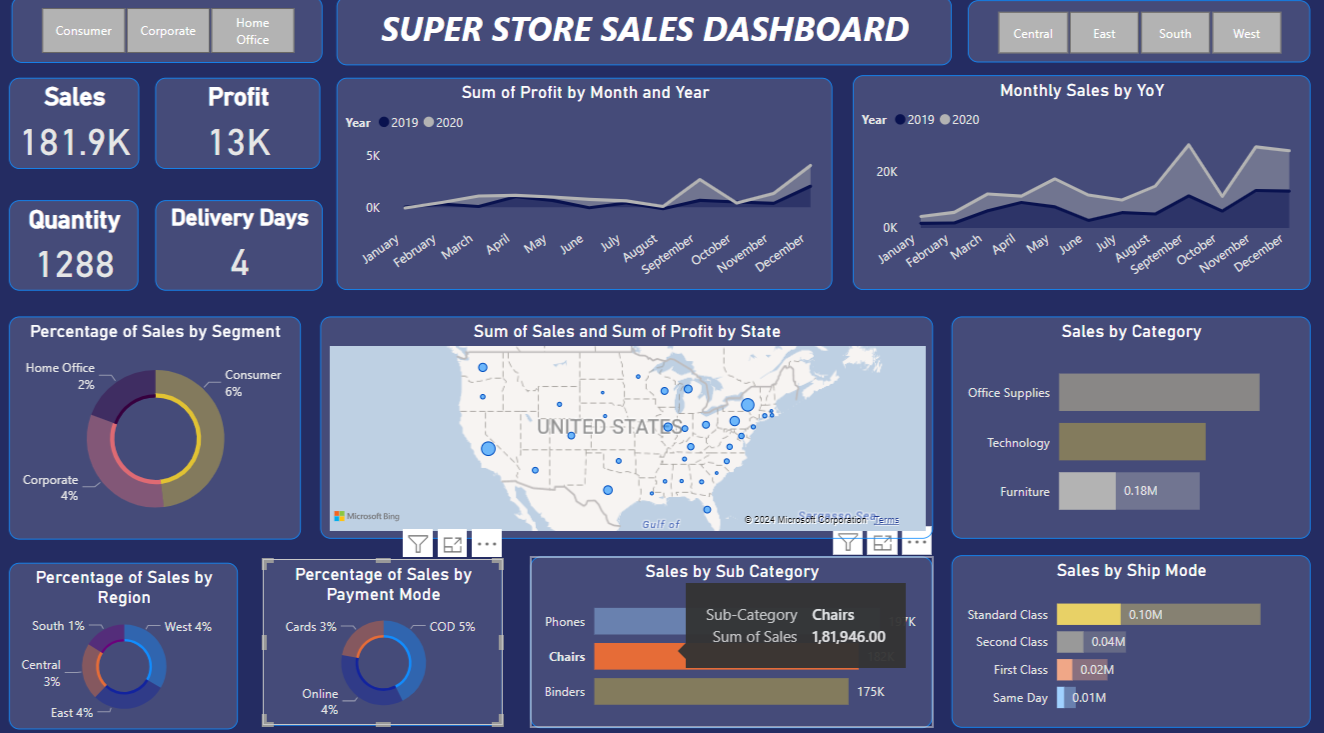

What the dashboard file says about the page in this screenshot:
{"tool":"powerbi","page":{"name":"Page 1","canvas":[1280,720],"ordinal":0},"visuals":[{"type":"clusteredBarChart","title":"Sales by Category","fields":{"Category":["SuperStore_Sales_Dataset.Category"],"Y":["Sum(SuperStore_Sales_Dataset.Sales)"]},"box":[920.2,311.2,346.1,214.7],"z":0},{"type":"clusteredBarChart","title":"Sales by Sub Category","fields":{"Category":["SuperStore_Sales_Dataset.Sub-Category"],"Y":["Sum(SuperStore_Sales_Dataset.Sales)"]},"box":[513.8,542.7,388.3,165.2],"z":1000},{"type":"clusteredBarChart","title":"Sales by Ship Mode","fields":{"Category":["SuperStore_Sales_Dataset.Ship Mode"],"Y":["Sum(SuperStore_Sales_Dataset.Sales)"]},"box":[920,541.2,346.2,166.2],"z":2000},{"type":"stackedAreaChart","title":"Monthly Sales by YoY","fields":{"Y":["Sum(SuperStore_Sales_Dataset.Sales)"],"Category":["SuperStore_Sales_Dataset.Order Date.Variation.Date Hierarchy.Month","SuperStore_Sales_Dataset.Order Date.Variation.Date Hierarchy.Day"],"Series":["SuperStore_Sales_Dataset.Order Date.Variation.Date Hierarchy.Year"]},"box":[825,78.8,441.2,207.5],"z":3000},{"type":"stackedAreaChart","fields":{"Category":["SuperStore_Sales_Dataset.Order Date.Variation.Date Hierarchy.Month","SuperStore_Sales_Dataset.Order Date.Variation.Date Hierarchy.Day"],"Series":["SuperStore_Sales_Dataset.Order Date.Variation.Date Hierarchy.Year"],"Y":["Sum(SuperStore_Sales_Dataset.Profit)"]},"box":[326.2,81.2,478.8,205],"z":4000},{"type":"map","fields":{"Category":["SuperStore_Sales_Dataset.State"],"Size":["Sum(SuperStore_Sales_Dataset.Sales)"]},"box":[311.2,311.2,591,214.7],"z":5000},{"type":"donutChart","title":"Percentage of Sales by Segment","fields":{"Category":["SuperStore_Sales_Dataset.Segment"],"Y":["Sum(SuperStore_Sales_Dataset.Sales)"]},"box":[11.2,311.2,281.2,215],"z":6000},{"type":"donutChart","title":"Percentage of Sales by Payment Mode","fields":{"Category":["SuperStore_Sales_Dataset.Payment Mode"],"Y":["Sum(SuperStore_Sales_Dataset.Sales)"]},"box":[255.7,545.1,231.6,160.4],"z":7000},{"type":"slicer","fields":{"Values":["SuperStore_Sales_Dataset.Region"]},"box":[936.2,6.2,330,60],"z":8000},{"type":"textbox","box":[326.2,2.5,593.8,66.2],"z":9000},{"type":"card","title":"Sales","fields":{"Values":["Sum(SuperStore_Sales_Dataset.Sales)"]},"box":[11.2,81.2,125,87.5],"z":10000},{"type":"card","title":"Quantity","fields":{"Values":["Sum(SuperStore_Sales_Dataset.Quantity)"]},"box":[11.2,198.8,125,87.5],"z":11000},{"type":"card","title":"Profit","fields":{"Values":["Sum(SuperStore_Sales_Dataset.Profit)"]},"box":[161.2,81.2,152.5,87.5],"z":12000},{"type":"card","title":"Delivery Days","fields":{"Values":["Avg(SuperStore_Sales_Dataset.AvgDelievery)"]},"box":[162.5,198.8,151.2,87.5],"z":13000},{"type":"donutChart","title":"Percentage of Sales by Region","fields":{"Category":["SuperStore_Sales_Dataset.Region"],"Y":["Sum(SuperStore_Sales_Dataset.Sales)"]},"box":[10.9,548.7,220.7,160.4],"z":14000},{"type":"slicer","fields":{"Values":["SuperStore_Sales_Dataset.Segment"]},"box":[11.2,2.5,300,63.8],"z":15000}]}

Visuals, with their boxes in screenshot pixels (x1, y1, x2, y2), scaled from the page's 1280x720 canvas onto the 1324x733 screenshot:
"Sales by Category" clusteredBarChart: box=[952, 317, 1310, 535]
"Sales by Sub Category" clusteredBarChart: box=[531, 552, 933, 721]
"Sales by Ship Mode" clusteredBarChart: box=[952, 551, 1310, 720]
"Monthly Sales by YoY" stackedAreaChart: box=[853, 80, 1310, 291]
stackedAreaChart - SuperStore_Sales_Dataset.Order Date.Variation.Date Hierarchy.Month x SuperStore_Sales_Dataset.Order Date.Variation.Date Hierarchy.Day: box=[337, 83, 833, 291]
map - SuperStore_Sales_Dataset.State x Sum(SuperStore_Sales_Dataset.Sales): box=[322, 317, 933, 535]
"Percentage of Sales by Segment" donutChart: box=[12, 317, 302, 536]
"Percentage of Sales by Payment Mode" donutChart: box=[264, 555, 504, 718]
slicer - SuperStore_Sales_Dataset.Region: box=[968, 6, 1310, 67]
textbox: box=[337, 3, 952, 70]
"Sales" card: box=[12, 83, 141, 172]
"Quantity" card: box=[12, 202, 141, 291]
"Profit" card: box=[167, 83, 324, 172]
"Delivery Days" card: box=[168, 202, 324, 291]
"Percentage of Sales by Region" donutChart: box=[11, 559, 240, 722]
slicer - SuperStore_Sales_Dataset.Segment: box=[12, 3, 322, 67]
